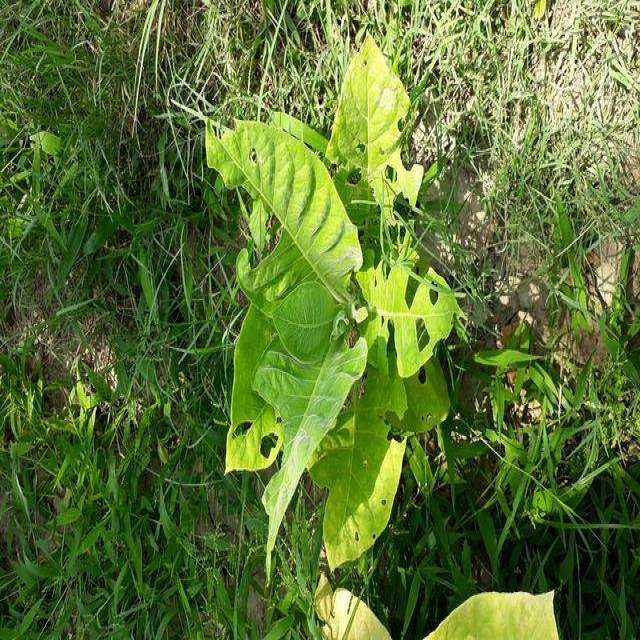crop: (215, 76, 442, 554), (322, 600, 566, 640)
